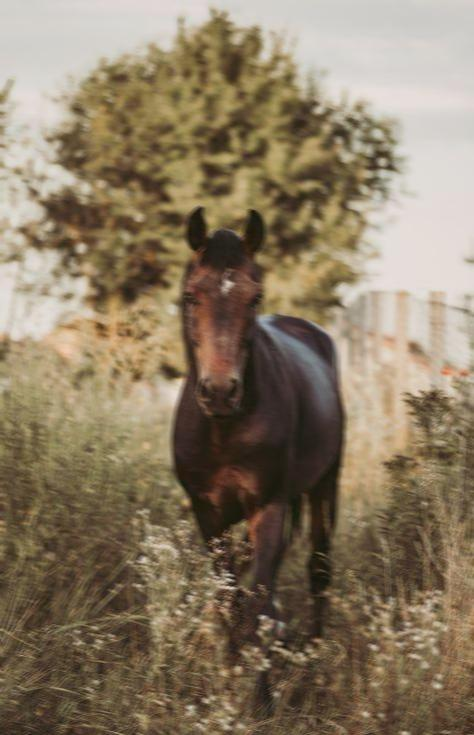horse: (170, 204, 346, 718)
